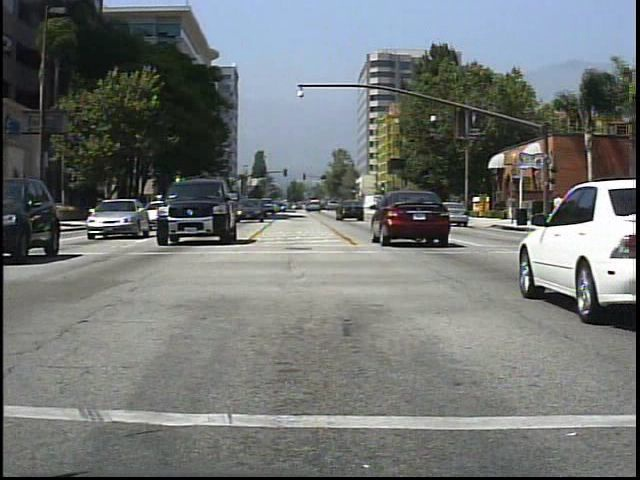person: (550, 190, 570, 229), (506, 189, 519, 226)
